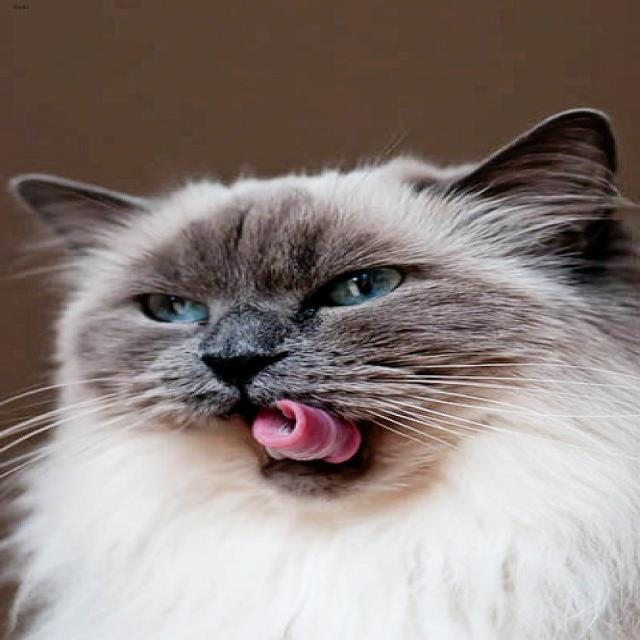Ragdoll: (0, 107, 640, 510)
